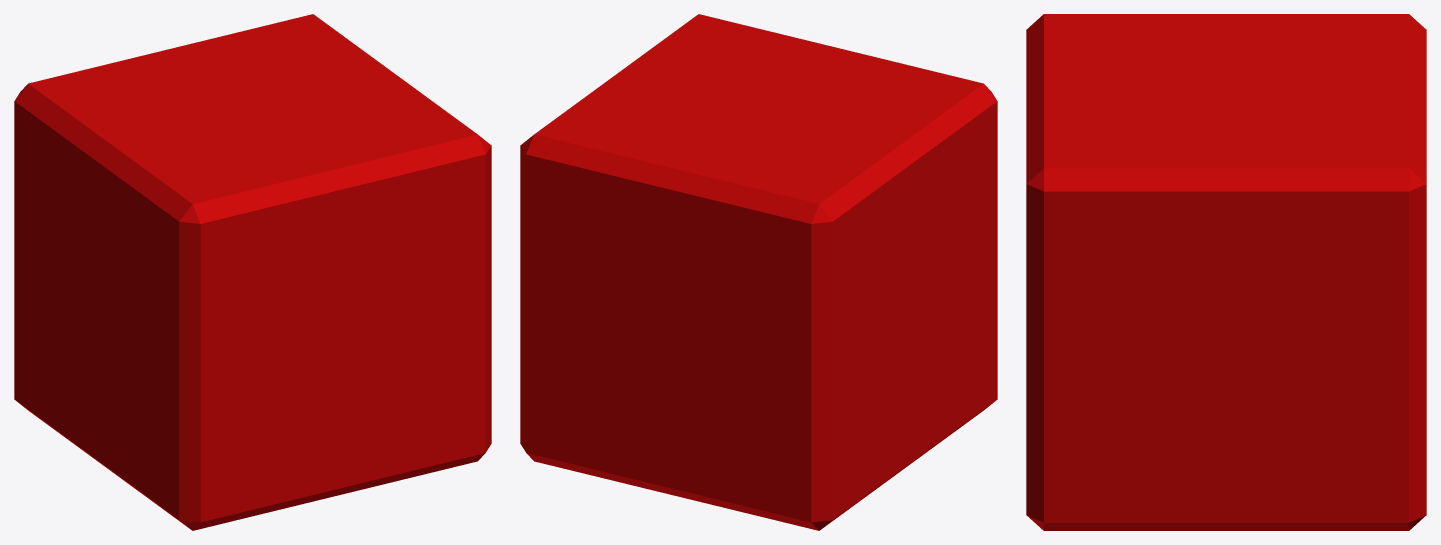
File: loaded_dice.obj
The picture shows the model from 3 angles, left to right: view 1: azimuth 30°, elevation 25°; view 2: azimuth 150°, elevation 25°; view 3: azimuth 270°, elevation 25°; orthographic projection. The views are drawn at different scales.
Visible parts, largest first — view 1: Solid1:1, Solid1:2, Solid1:3, Solid1:4; view 2: Solid1:2, Solid1:1, Solid1:4, Solid1:3; view 3: Solid1:1, Solid1:2, Solid1:3, Solid1:4.
Boxes of the visible parts, x1,y1,x2,y2 form: Solid1:1: [99, 76, 491, 530]; Solid1:2: [14, 14, 392, 466]; Solid1:3: [96, 74, 397, 471]; Solid1:4: [94, 72, 394, 468]; Solid1:2: [520, 76, 912, 530]; Solid1:1: [619, 14, 997, 466]; Solid1:4: [614, 74, 915, 471]; Solid1:3: [617, 72, 917, 468]; Solid1:1: [1026, 14, 1220, 530]; Solid1:2: [1232, 14, 1426, 530]; Solid1:3: [1220, 14, 1226, 530]; Solid1:4: [1226, 14, 1232, 530].
Bounding box in the file's own units: 69 × 69 × 69.
